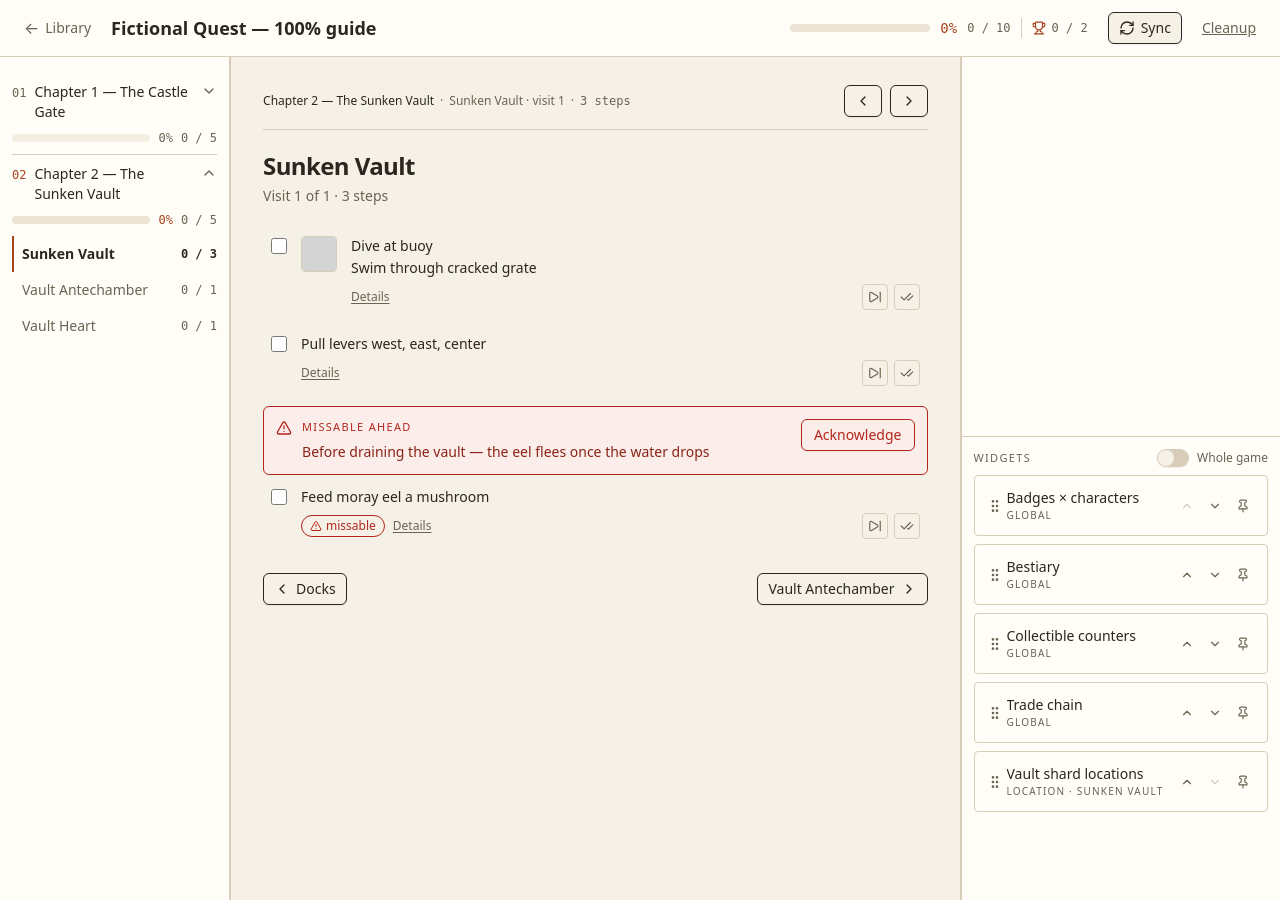
Test case: visit navigation (URL, never local state) › walks back to the previous visit, crossing chapter boundaries
Expected: the text "Dive at buoy" is shown, [351, 236, 433, 256]
Click the button with aria-label "Previous visit". click: (305, 588)
box: [263, 572, 347, 604]
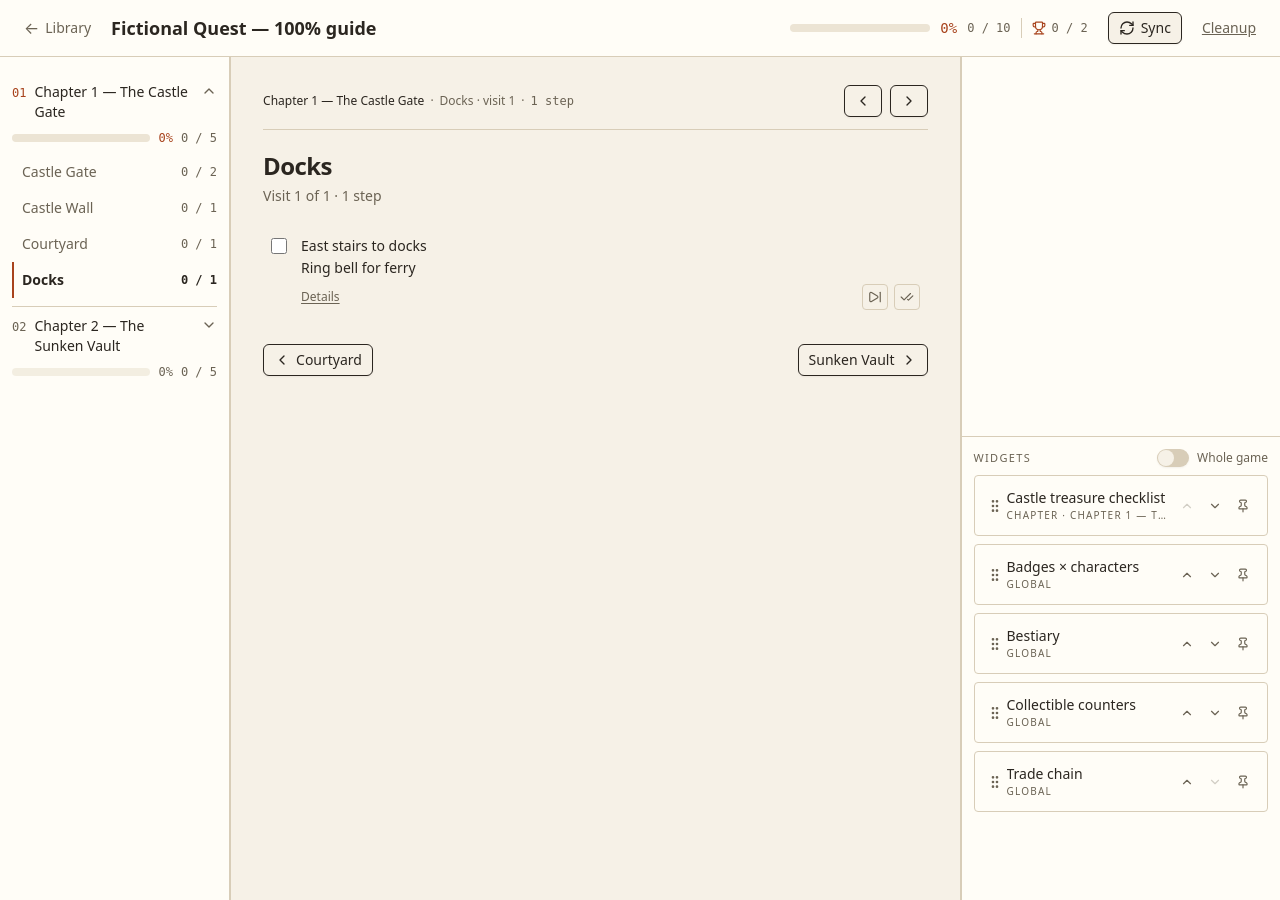
Expected: the text "East stairs to docks" is shown, [301, 236, 426, 256]
